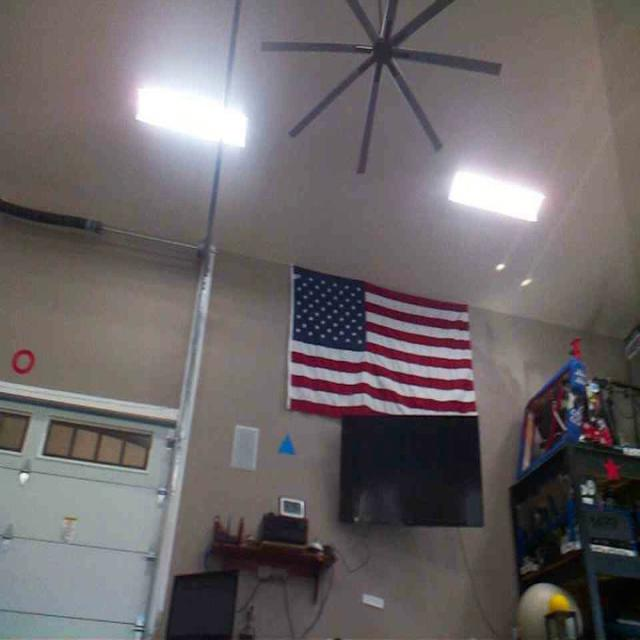ring_red: (11, 348, 35, 374)
star_red: (602, 458, 620, 479)
triangle_blue: (277, 433, 294, 452)
